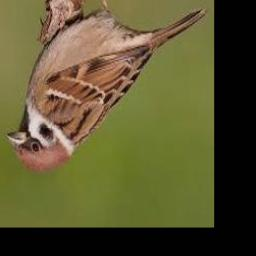Sparrow: (5, 0, 206, 171)
